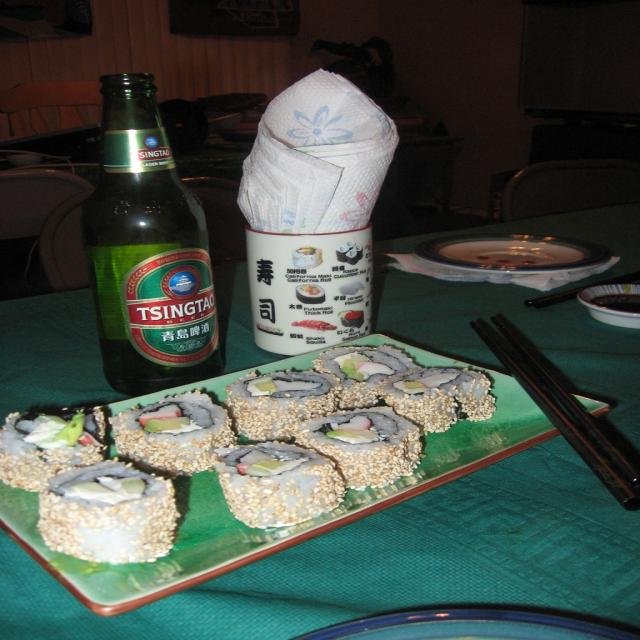tsingtao: (124, 250, 220, 367)
